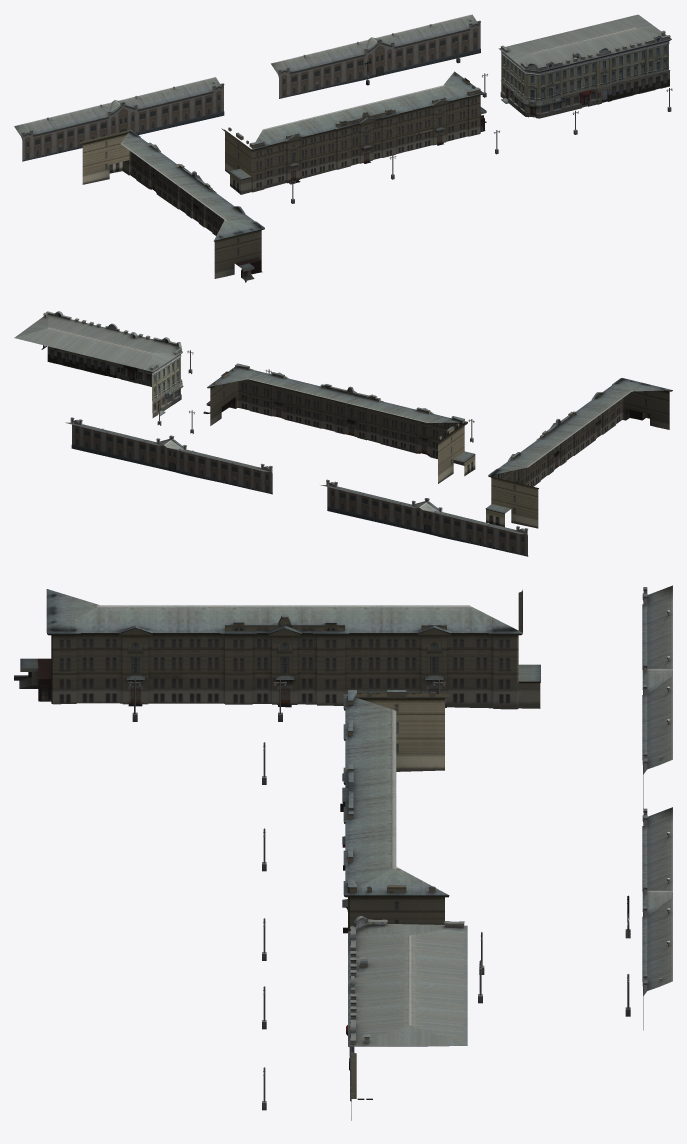
The model's file is square.fbx.
3 views of the same model, one above another, from view 1: azimuth 30°, elevation 25°; view 2: azimuth 150°, elevation 25°; view 3: azimuth 270°, elevation 25° (orthographic). The views are drawn at different scales.
Parts seen in each view (by area): view 1: square; view 2: square; view 3: square.
Boxes of the visible parts, x1,y1,x2,y2 form: square: [14, 14, 672, 282]; square: [14, 311, 672, 556]; square: [14, 585, 672, 1120].
Size of the model in its own units: 125 by 12.13 by 70.93.
